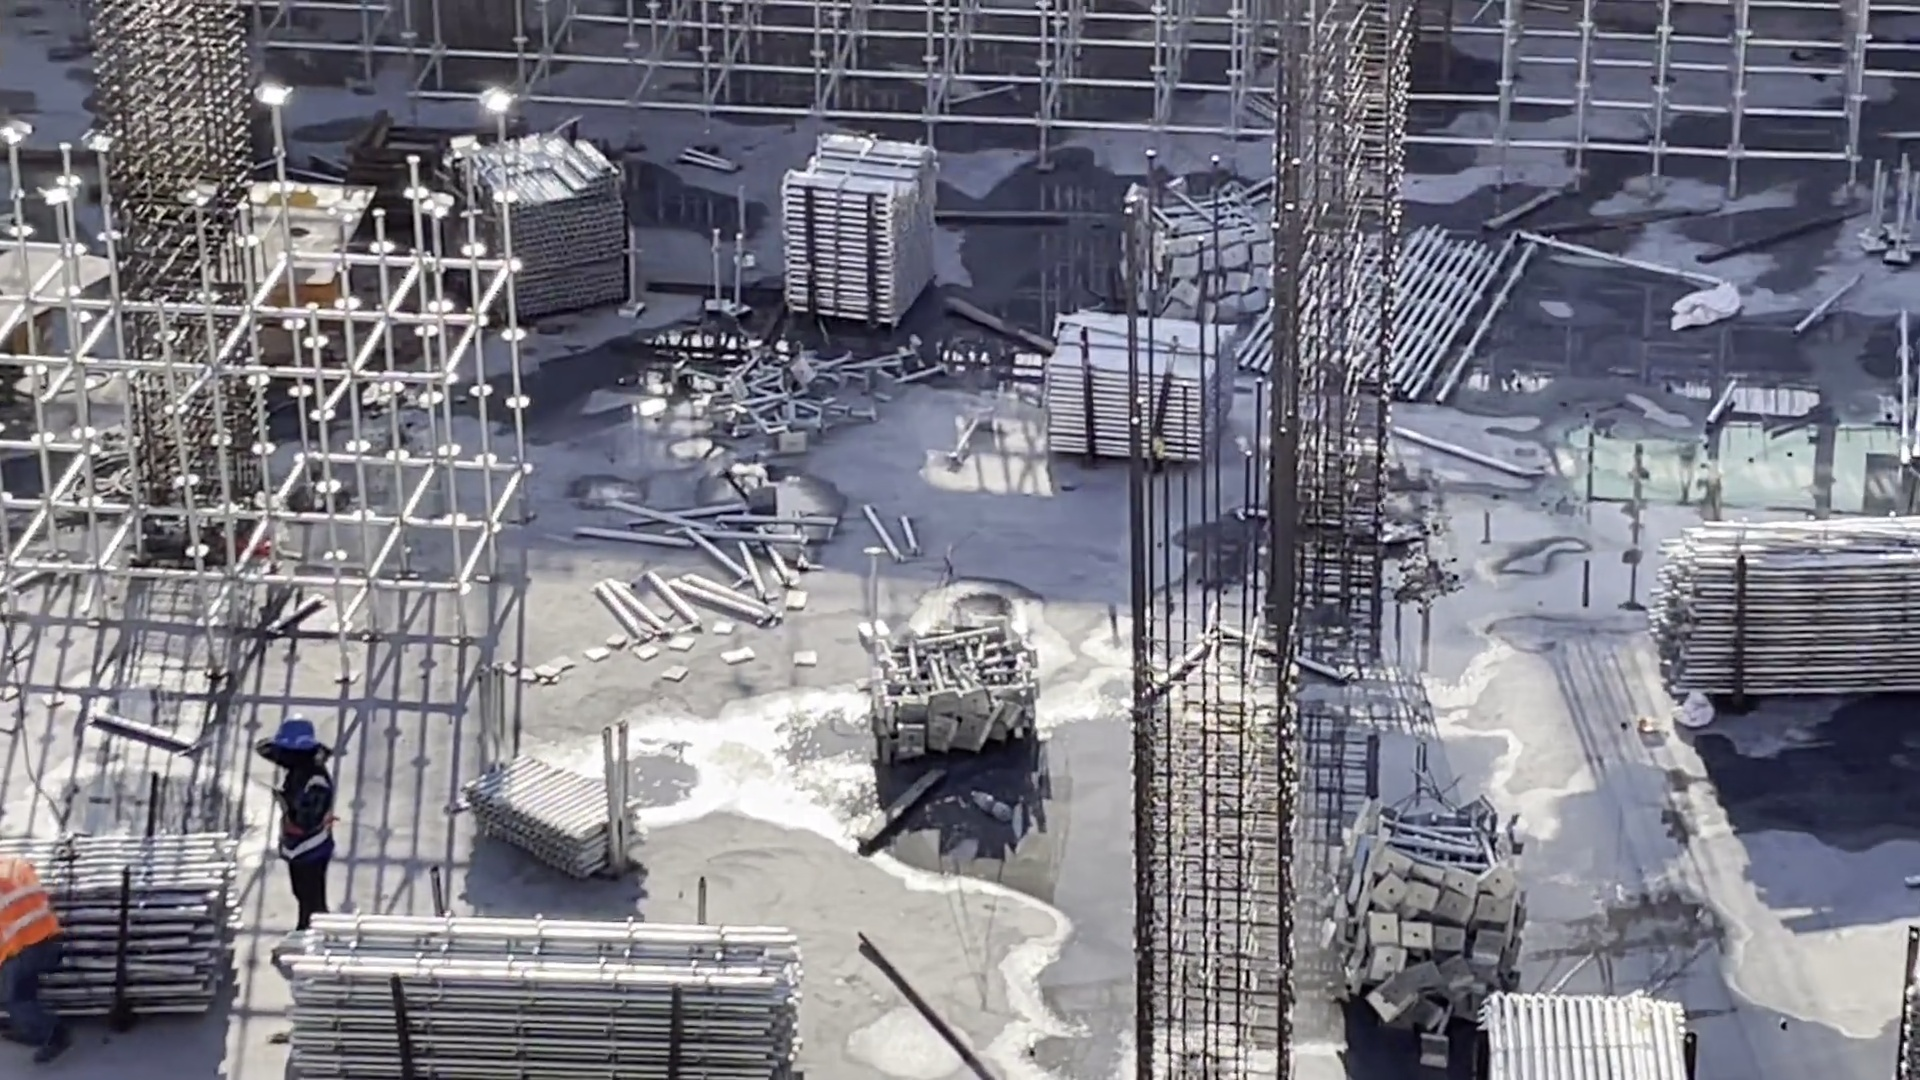cutter: (195, 168, 397, 341), (1, 226, 145, 345)
helmet: (264, 706, 315, 760)
person: (241, 711, 348, 950), (1, 830, 96, 1035)
scaffold: (281, 912, 830, 1076), (1, 818, 242, 1008), (1672, 531, 1920, 693), (438, 132, 623, 324), (1349, 800, 1502, 1002), (858, 603, 1059, 750), (782, 136, 943, 316), (467, 731, 643, 868), (1040, 307, 1201, 452), (1473, 979, 1692, 1080), (1126, 202, 1277, 333)
vest: (1, 852, 60, 959), (279, 763, 337, 868)
